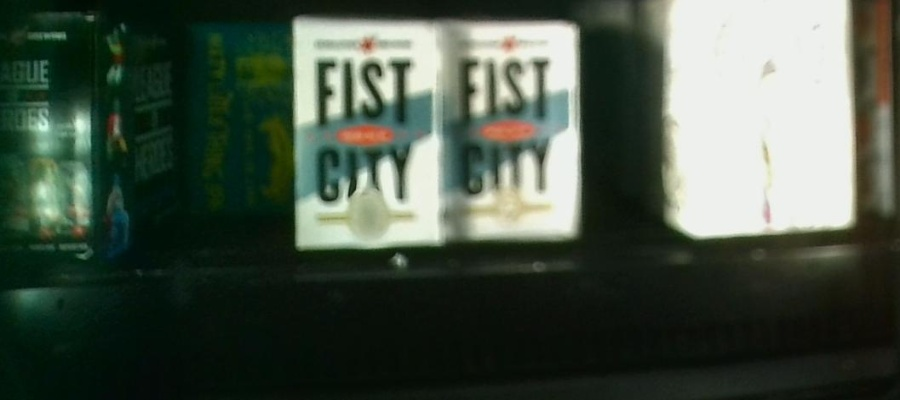bottle: (636, 1, 855, 241), (296, 19, 444, 250), (1, 16, 135, 262), (445, 18, 582, 247), (183, 19, 294, 218)
